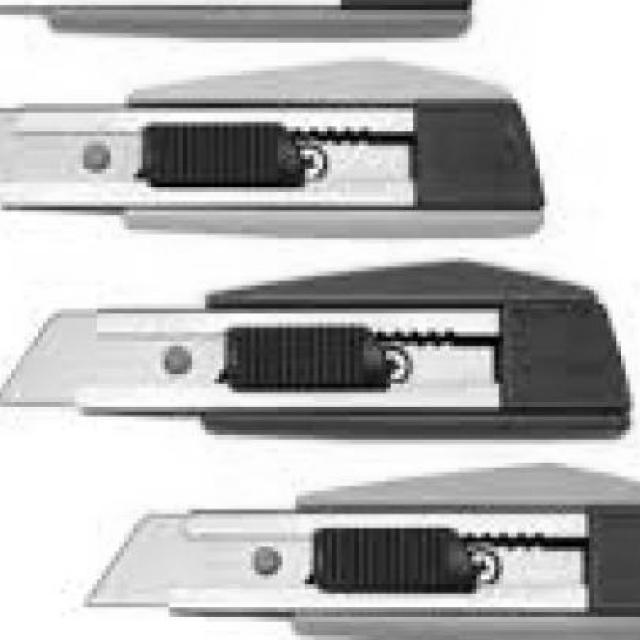estilete: (0, 261, 630, 437), (88, 464, 640, 640), (0, 62, 544, 236)
